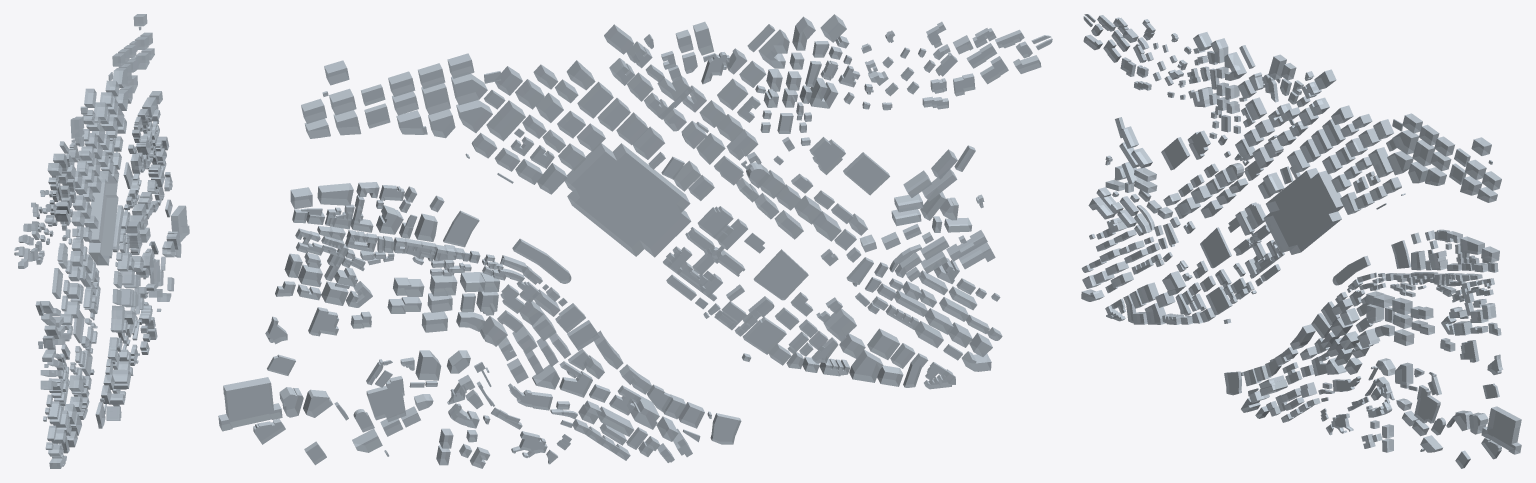
Rendered from luigi_osm.glb.
3 views of the same model, side by side, from view 1: azimuth 30°, elevation 25°; view 2: azimuth 150°, elevation 25°; view 3: azimuth 270°, elevation 25° (orthographic). The views are drawn at different scales.
Size of the model in its own units: 1017 by 822 by 934.
